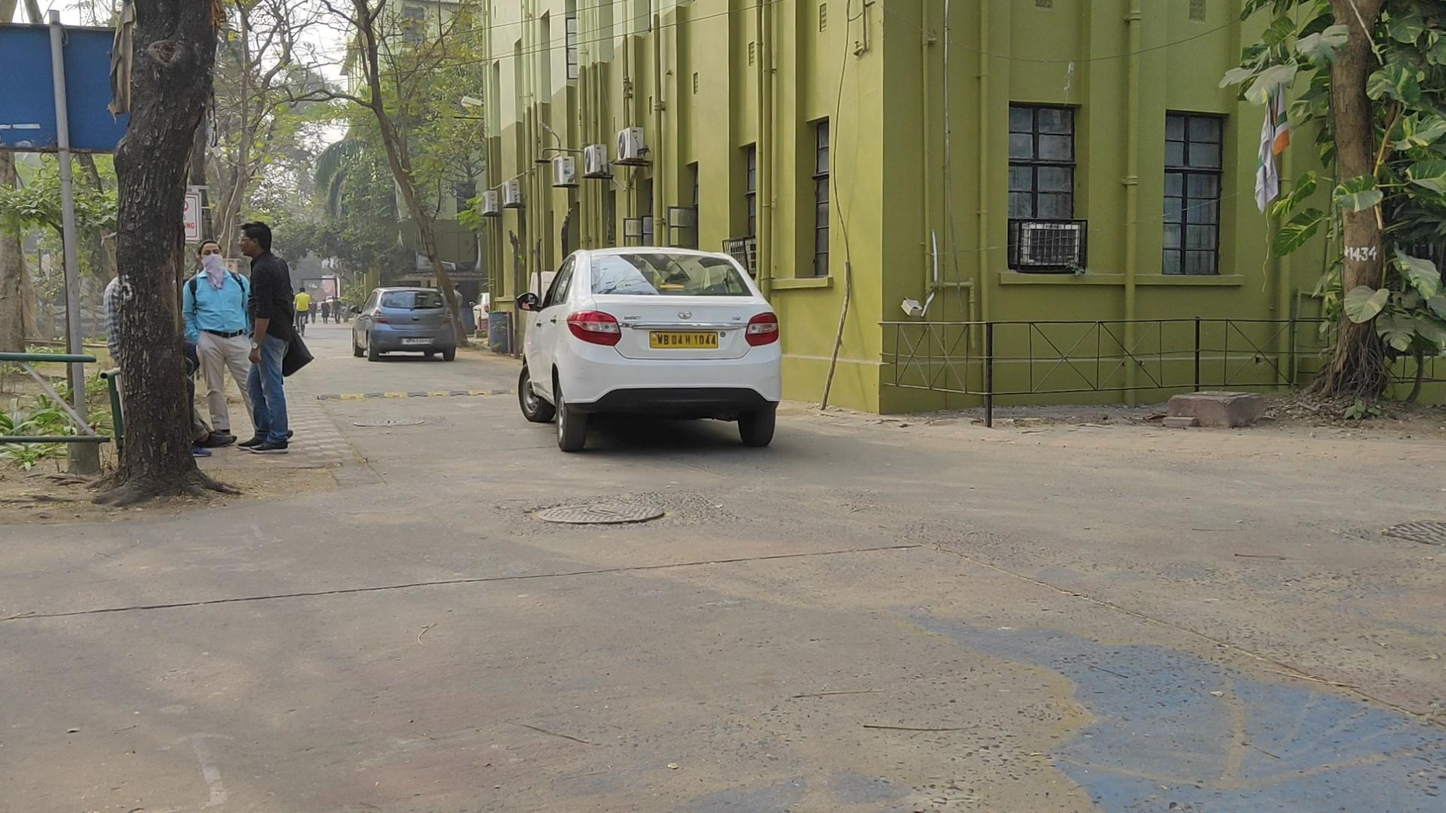bike: (293, 287, 312, 338)
car: (520, 242, 786, 456), (351, 285, 455, 369)
